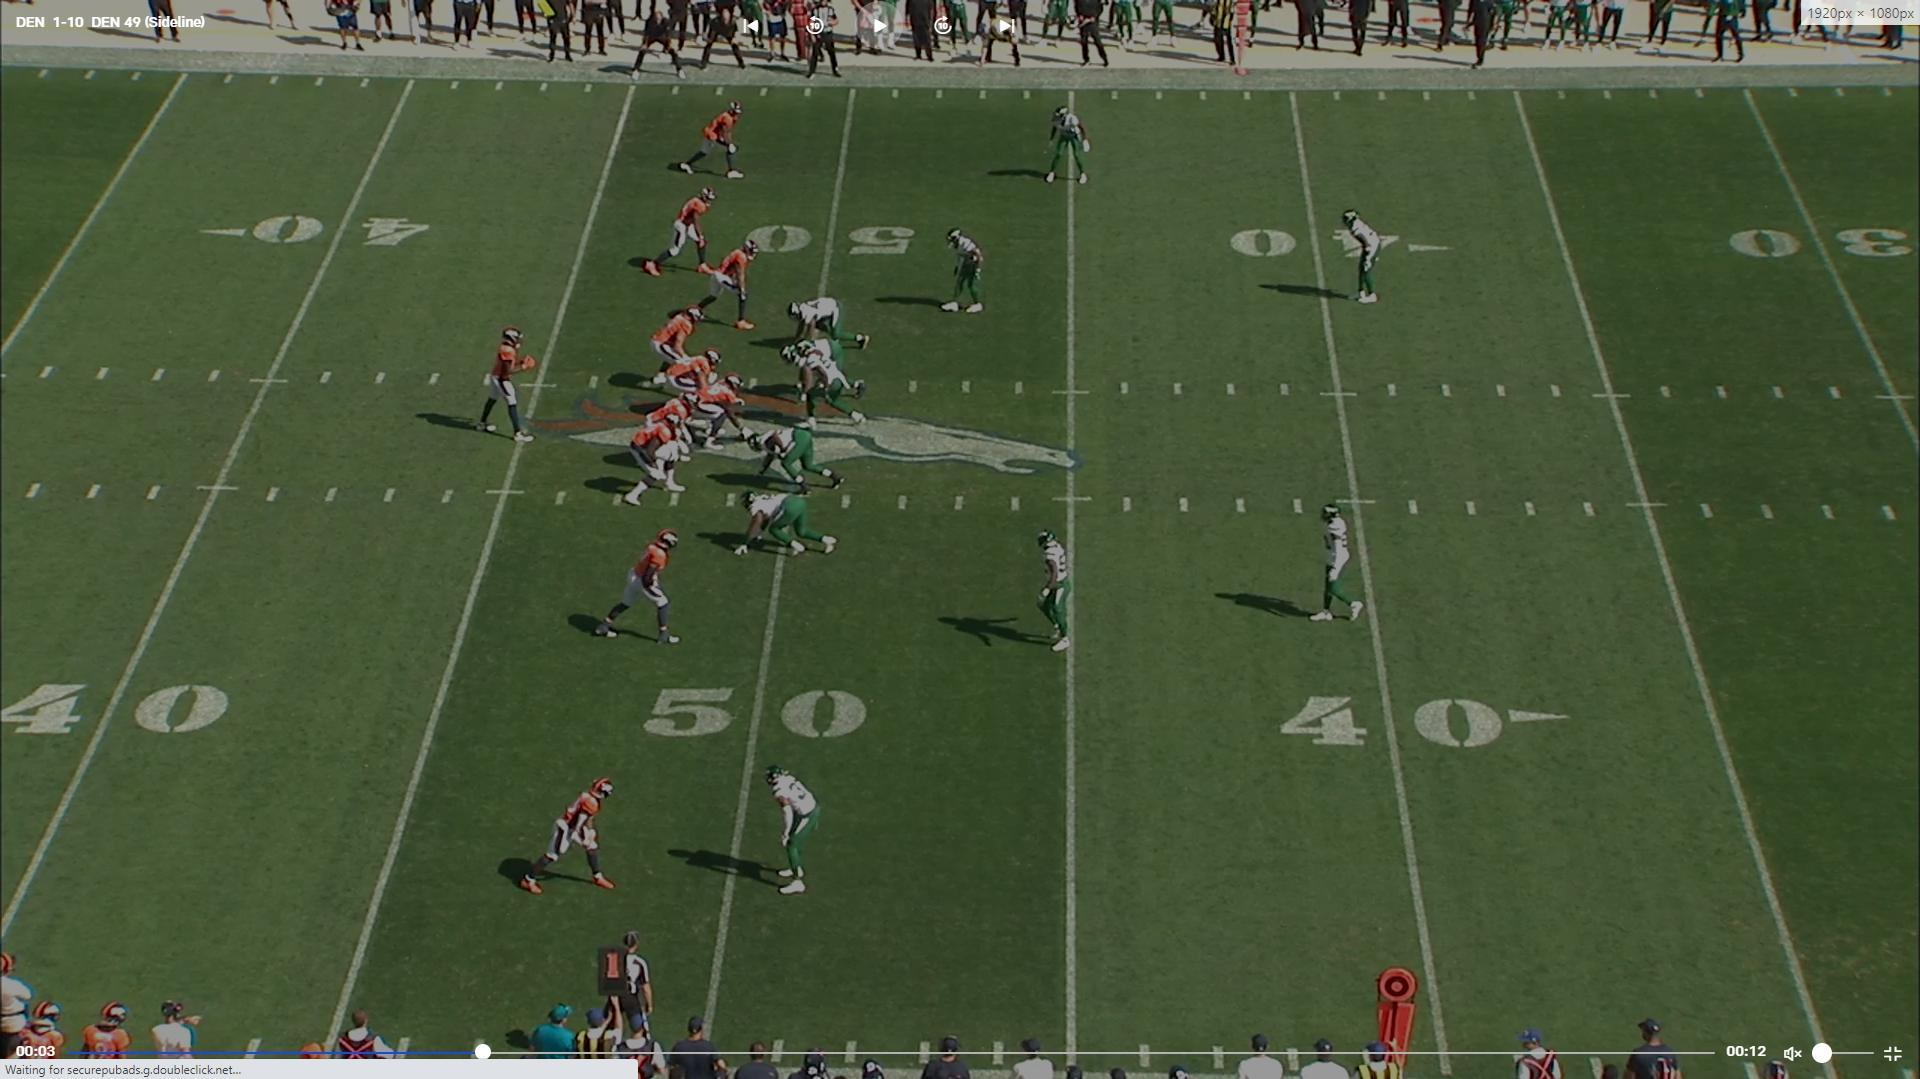player: (514, 771, 621, 901), (596, 526, 689, 653), (764, 760, 827, 899), (479, 318, 546, 445), (732, 487, 839, 563), (1313, 504, 1374, 634), (641, 184, 718, 281), (624, 409, 695, 511), (750, 427, 849, 500), (1032, 527, 1085, 661), (697, 233, 769, 329), (794, 337, 867, 430), (677, 99, 754, 184), (779, 338, 870, 404), (781, 292, 871, 353), (647, 299, 705, 391), (689, 367, 752, 450), (940, 226, 993, 321), (1339, 208, 1389, 307), (1043, 102, 1096, 190), (640, 392, 702, 466), (665, 347, 726, 408)
ref: (596, 927, 666, 1041), (801, 1, 846, 87)
